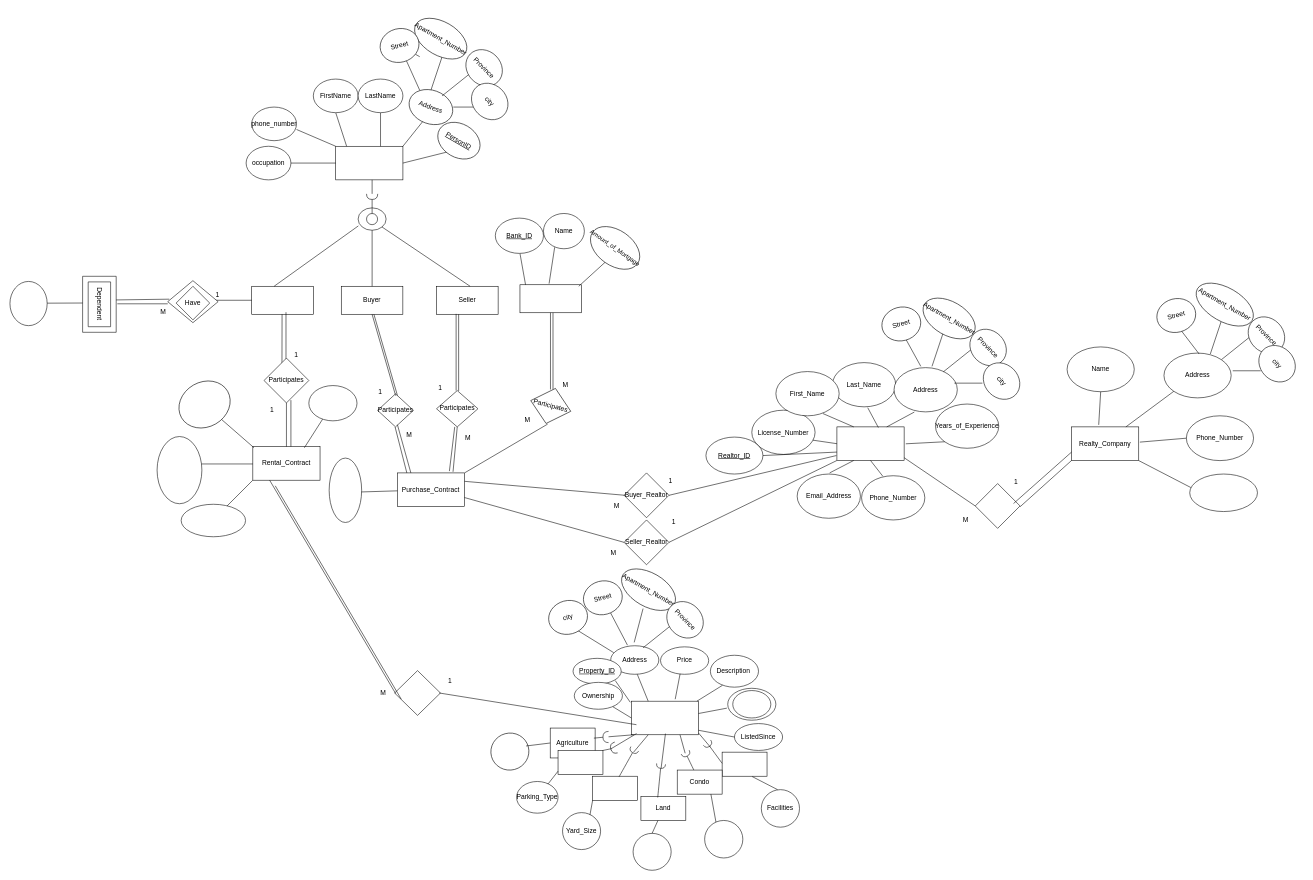
Some shapes in this 1313 by 880 pixel diagram are drawn without their labels. The box of each missing label's shape, as (x1, y1, x2, y2) in pixels:
Area: (633, 833, 671, 870)
Banks: (519, 284, 582, 313)
BeingRented: (394, 670, 440, 715)
Condo_Fee: (704, 820, 743, 858)
Crop_Type: (486, 728, 533, 774)
D ep e n de nt ID: (9, 281, 47, 326)
Detached House: (592, 776, 638, 800)
End_Date_Rent: (170, 371, 239, 437)
Monthly Rent: (157, 436, 202, 504)
Parking: (557, 750, 603, 775)
people: (335, 146, 403, 180)
Photos: (732, 690, 771, 718)
Properties: (631, 701, 699, 735)
Purchase_Contract_ID: (329, 458, 362, 522)
Realtor: (836, 426, 904, 460)
Realty_Company_ID: (1189, 473, 1257, 512)
Recreational: (722, 752, 767, 776)
Rental_Contract_ID: (181, 504, 246, 537)
Renter: (251, 286, 313, 314)
Strart_Date_ Rent: (308, 385, 357, 421)
Work_For: (975, 483, 1020, 528)
